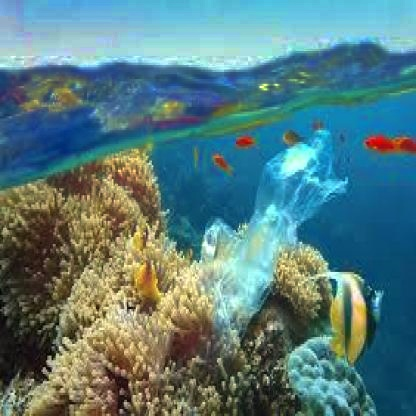pbag: (189, 123, 352, 339)
